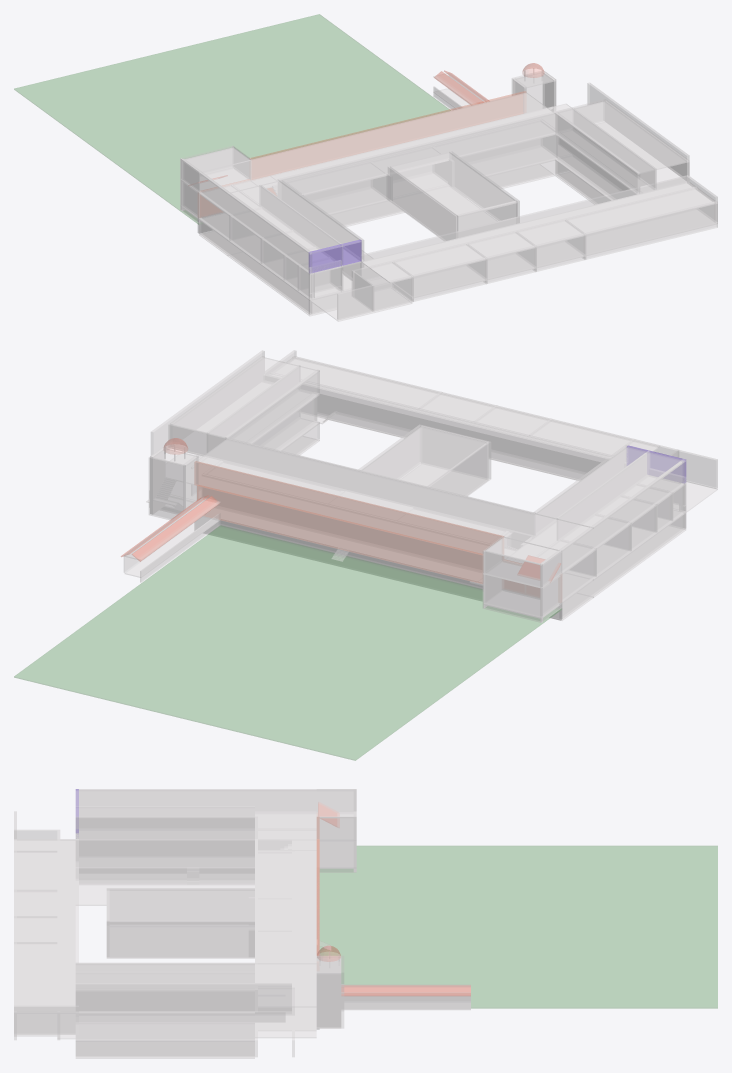
File: utfpr.obj
The picture shows the model from 3 angles, top to bottom: view 1: azimuth 30°, elevation 25°; view 2: azimuth 150°, elevation 25°; view 3: azimuth 270°, elevation 25°; orthographic projection. The views are drawn at different scales.
Visible parts, largest first — view 1: p1, p201, p364, p316, p332, p346, p353, p326, p175, p356, p358, p360 (+40 smaller); view 2: p1, p364, p223, p346, p316, p217, p353, p326, p332, p356, p358, p22 (+36 smaller); view 3: p1, p364, p316, p332, p326, p79, p169, p137, p165, p358, p356, p360 (+39 smaller).
Boxes of the visible parts, x1,y1,x2,y2 form: p1: [14, 14, 450, 224]; p201: [337, 201, 717, 319]; p364: [199, 92, 554, 193]; p316: [362, 182, 714, 282]; p332: [362, 182, 716, 282]; p346: [278, 99, 606, 196]; p353: [249, 91, 526, 178]; p326: [272, 104, 572, 195]; p175: [411, 209, 717, 298]; p356: [227, 181, 360, 253]; p358: [556, 101, 688, 174]; p360: [390, 152, 516, 216]; p1: [14, 525, 561, 760]; p364: [197, 438, 593, 550]; p223: [197, 485, 560, 602]; p346: [168, 424, 535, 535]; p316: [289, 357, 659, 457]; p217: [265, 374, 609, 480]; p353: [194, 461, 503, 554]; p326: [166, 451, 511, 553]; p332: [286, 357, 657, 457]; p356: [536, 446, 685, 527]; p358: [171, 357, 319, 438]; p22: [194, 516, 561, 620]; p1: [320, 846, 717, 1008]; p364: [255, 790, 316, 963]; p316: [14, 839, 75, 1005]; p332: [14, 839, 75, 1013]; p326: [258, 850, 316, 1007]; p79: [76, 983, 291, 1011]; p169: [107, 921, 254, 957]; p137: [76, 839, 279, 867]; p165: [107, 888, 254, 925]; p358: [76, 963, 254, 991]; p356: [76, 790, 254, 817]; p360: [107, 890, 254, 921].
Bounding box in the file's own units: 77 × 16.3 × 114.
